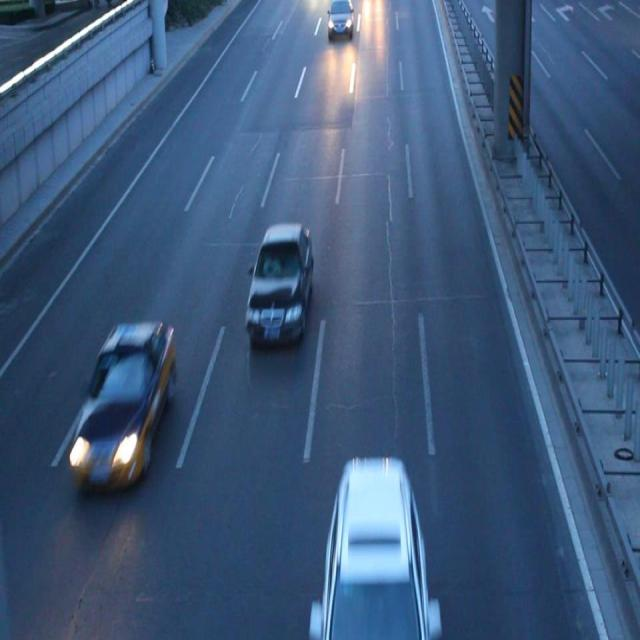car: (313, 458, 433, 640), (63, 322, 176, 489), (243, 223, 312, 345), (326, 1, 353, 38)
